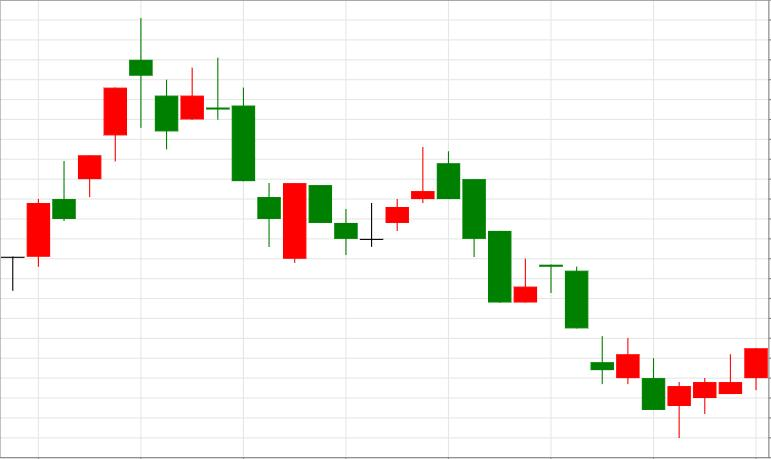bullish_engulfing_rise: (129, 18, 306, 264)
